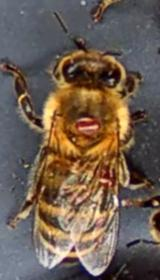varroa_mite: (72, 106, 104, 139), (90, 164, 116, 194)
